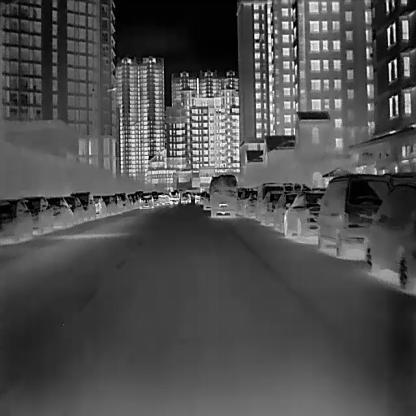car: (317, 174, 389, 259), (366, 183, 415, 296), (284, 194, 324, 241), (0, 197, 32, 242), (21, 194, 54, 233), (210, 172, 239, 216), (45, 196, 73, 231), (275, 193, 297, 232), (261, 190, 284, 225), (69, 191, 96, 220), (64, 196, 83, 224), (91, 193, 107, 219), (101, 194, 117, 214), (139, 192, 153, 209), (168, 190, 179, 205), (202, 192, 211, 209), (181, 192, 189, 204)
